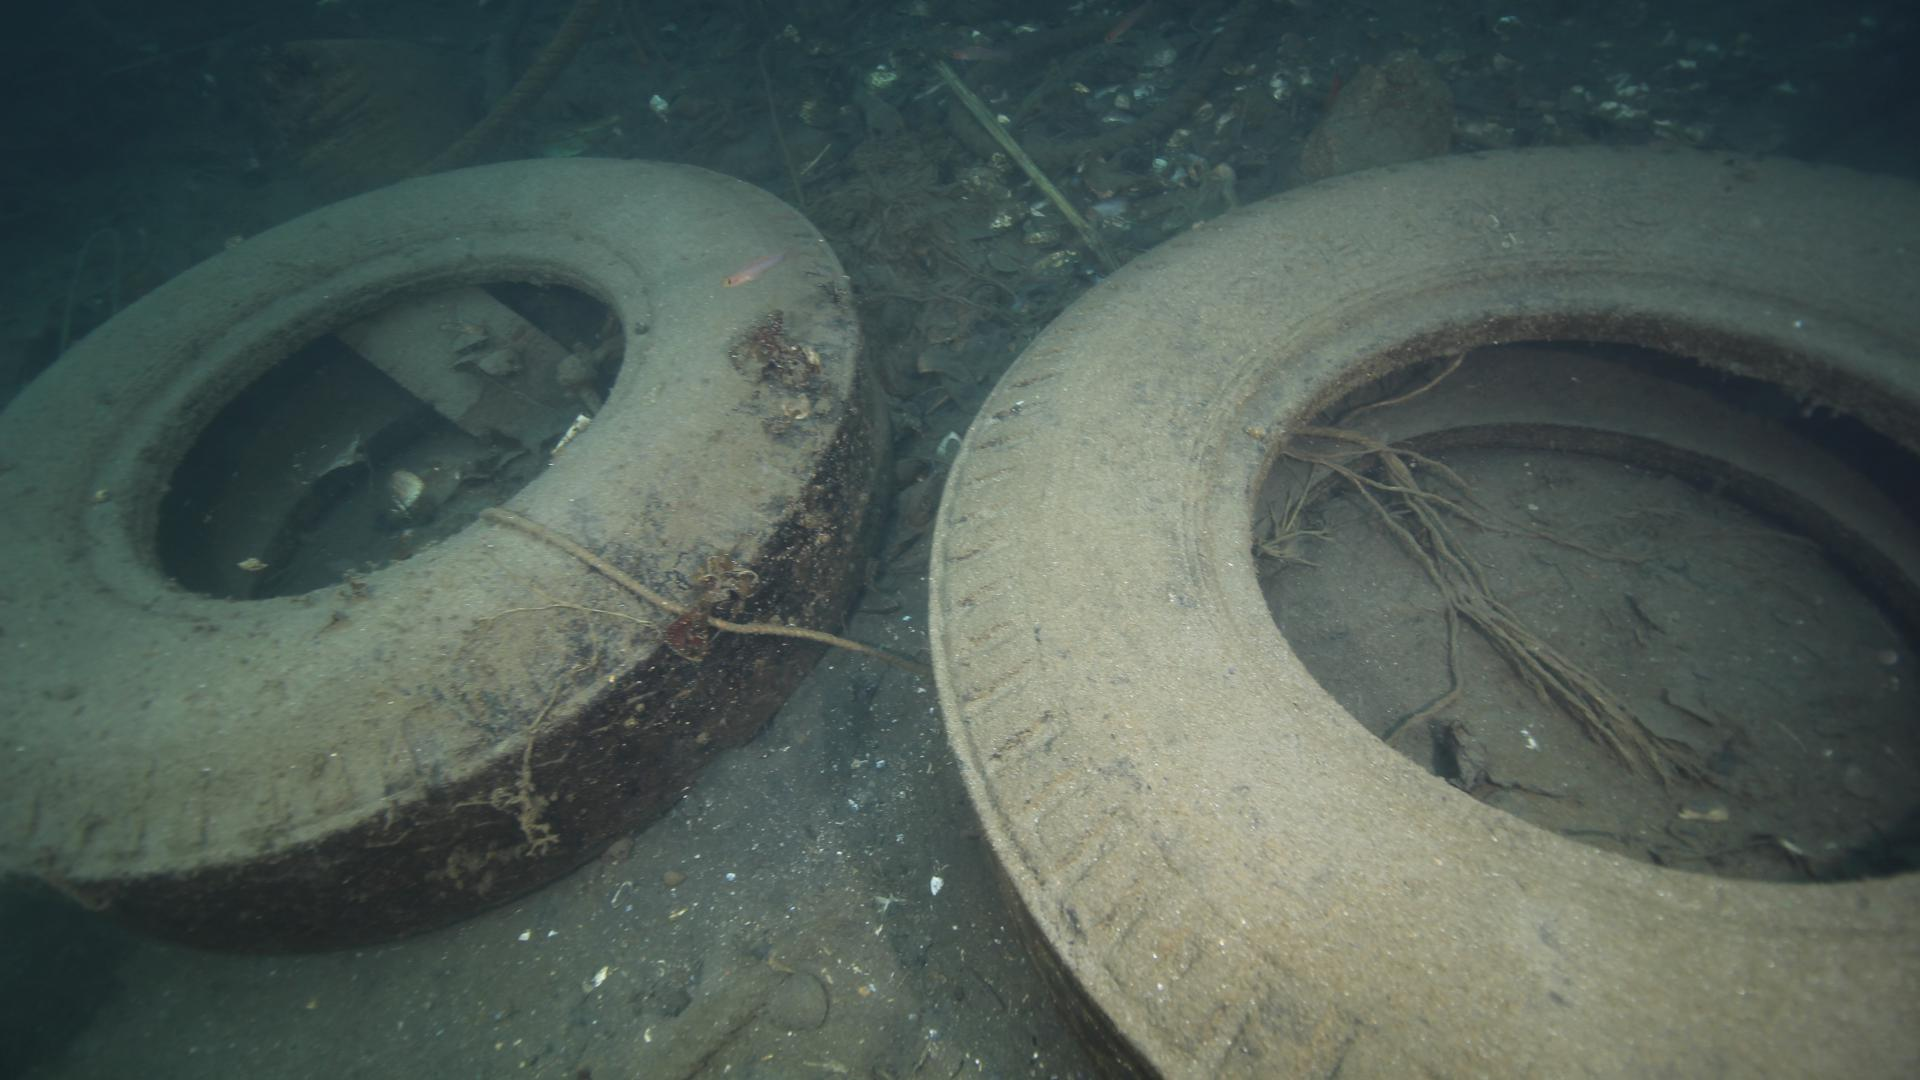tire: (926, 140, 1920, 1080)
